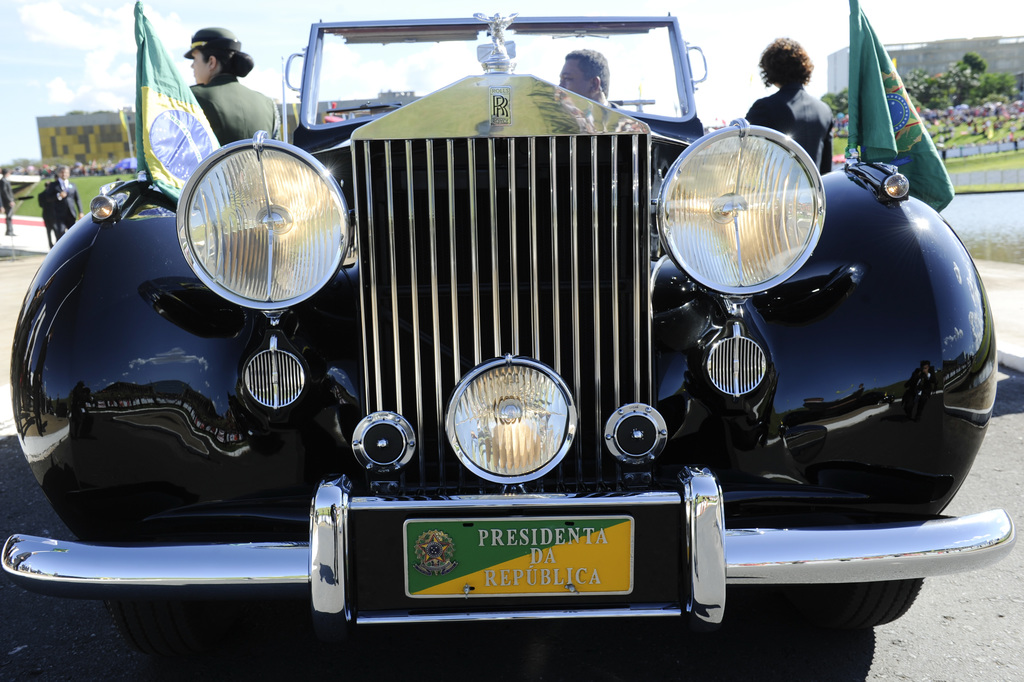Car: (0, 0, 940, 675)
